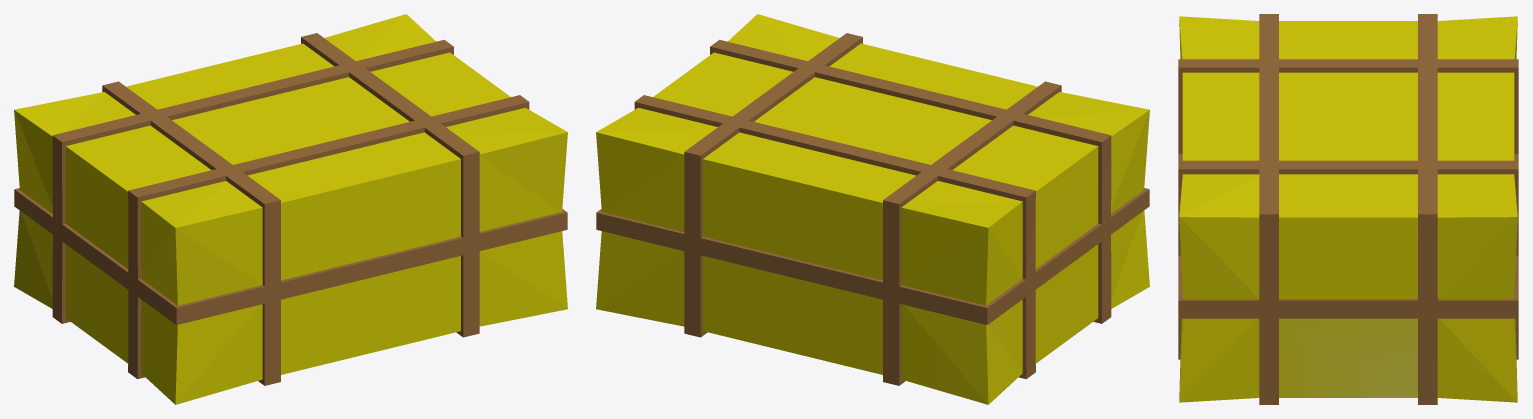
Rendered from BigRectHay.fbx.
3 views of the same model, side by side, from view 1: azimuth 30°, elevation 25°; view 2: azimuth 150°, elevation 25°; view 3: azimuth 270°, elevation 25° (orthographic). The views are drawn at different scales.
Visible parts, largest first — view 1: bigRectHay; view 2: bigRectHay; view 3: bigRectHay.
Part boxes in pixels (x1=…): bigRectHay: x1=14, y1=14, x2=567, y2=404; bigRectHay: x1=596, y1=14, x2=1149, y2=404; bigRectHay: x1=1178, y1=14, x2=1518, y2=404.
Bounding box in the file's own units: 267 × 118 × 191.
